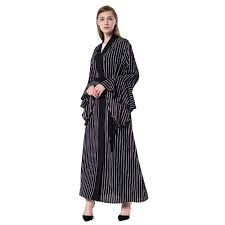middle_eastern_Female: (97, 8, 119, 36)
